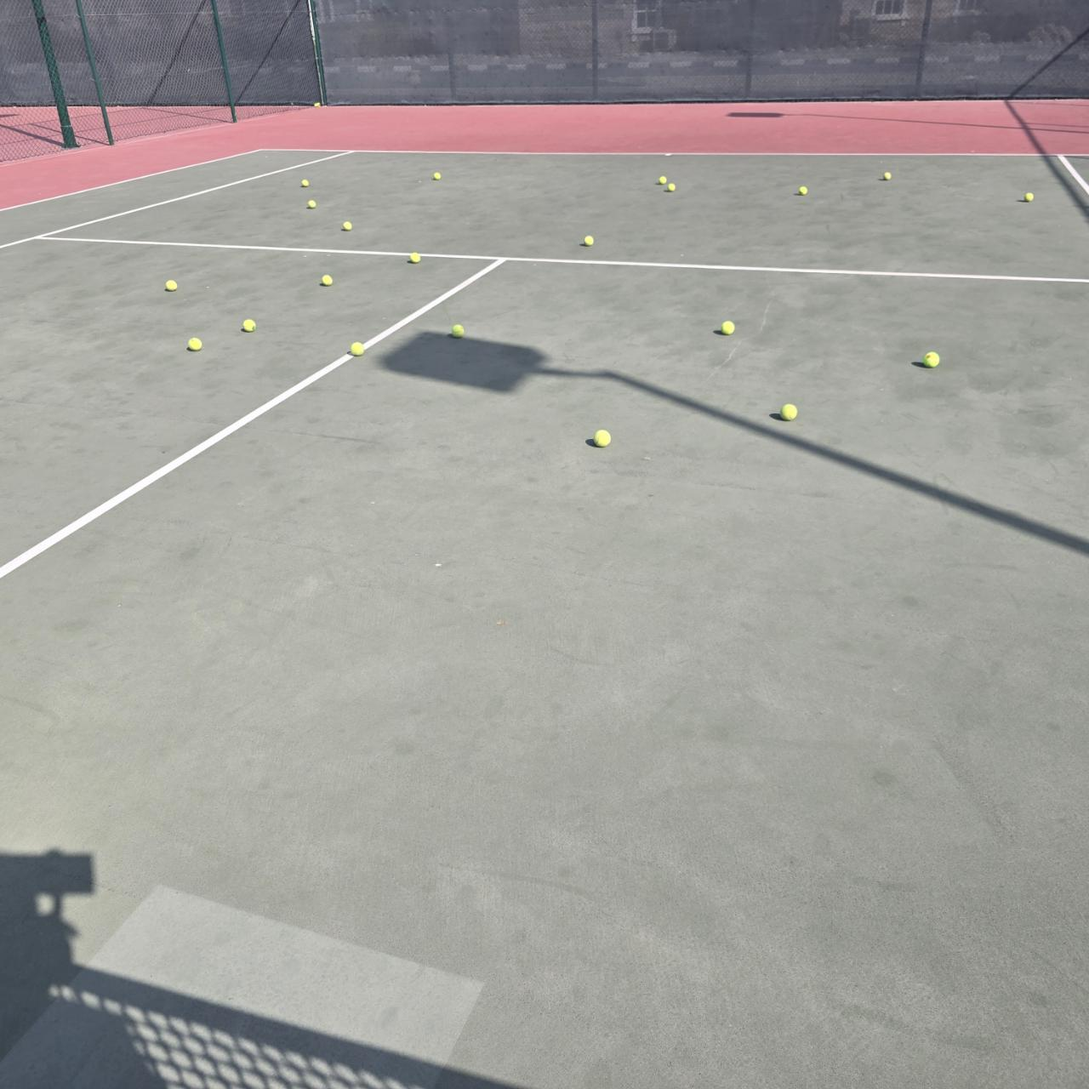tennis-ball: (592, 427, 611, 447), (779, 401, 798, 420), (922, 349, 939, 368), (185, 335, 202, 351), (719, 318, 735, 335), (349, 339, 364, 356), (449, 322, 464, 338), (241, 316, 255, 332), (319, 272, 333, 286), (163, 277, 177, 291), (581, 233, 594, 247), (409, 252, 421, 264), (1023, 192, 1035, 203), (798, 186, 808, 196), (343, 221, 352, 231), (307, 199, 316, 209), (432, 171, 441, 180), (667, 183, 676, 192), (301, 179, 310, 187), (883, 172, 892, 180), (659, 176, 667, 184), (315, 102, 320, 107)
